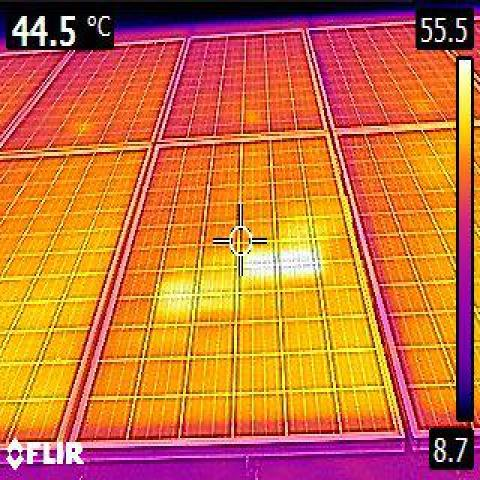fault: (280, 253, 314, 282), (246, 254, 278, 282)
